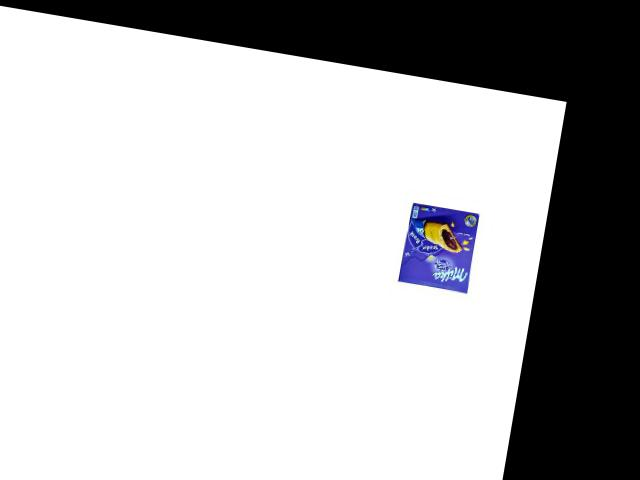chocolate: (394, 196, 485, 299)
